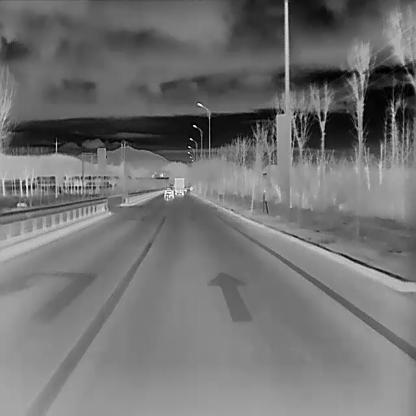car: (164, 186, 174, 198)
truck: (174, 176, 184, 194)
